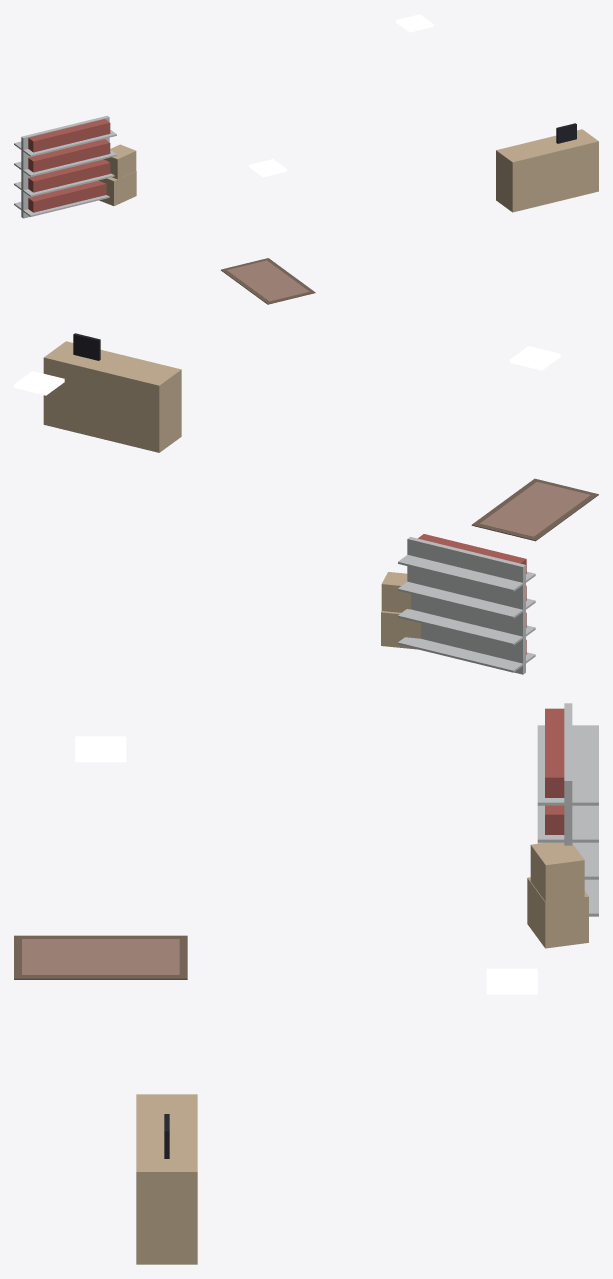
The model's file is fine-s0.glb.
The picture shows the model from 3 angles, top to bottom: view 1: azimuth 30°, elevation 25°; view 2: azimuth 150°, elevation 25°; view 3: azimuth 270°, elevation 25°; orthographic projection. The views are drawn at different scales.
Visible parts, largest first — view 1: shelving.000, shop-counter.000, soft-s0, cardboard-box.000, ceiling-lamp.000, ceiling-lamp.001; view 2: shelving.000, shop-counter.000, soft-s0, cardboard-box.000, ceiling-lamp.000, ceiling-lamp.001; view 3: shop-counter.000, shelving.000, soft-s0, cardboard-box.000, ceiling-lamp.000, ceiling-lamp.001.
Part boxes in pixels (x1=…): shelving.000: x1=14, y1=115, x2=116, y2=218; shop-counter.000: x1=496, y1=123, x2=598, y2=212; soft-s0: x1=221, y1=258, x2=315, y2=304; cardboard-box.000: x1=99, y1=144, x2=136, y2=205; ceiling-lamp.000: x1=249, y1=159, x2=286, y2=177; ceiling-lamp.001: x1=396, y1=14, x2=433, y2=32; shelving.000: x1=398, y1=534, x2=535, y2=674; shop-counter.000: x1=43, y1=333, x2=181, y2=452; soft-s0: x1=471, y1=478, x2=598, y2=541; cardboard-box.000: x1=381, y1=572, x2=420, y2=649; ceiling-lamp.000: x1=510, y1=346, x2=560, y2=370; ceiling-lamp.001: x1=14, y1=371, x2=64, y2=395; shop-counter.000: x1=136, y1=1094, x2=197, y2=1264; shelving.000: x1=537, y1=703, x2=598, y2=916; soft-s0: x1=14, y1=935, x2=187, y2=979; cardboard-box.000: x1=527, y1=842, x2=588, y2=948; ceiling-lamp.000: x1=75, y1=736, x2=126, y2=762; ceiling-lamp.001: x1=486, y1=968, x2=537, y2=994.
Bounding box in the file's own units: 9.58 × 2.28 × 5.73.
